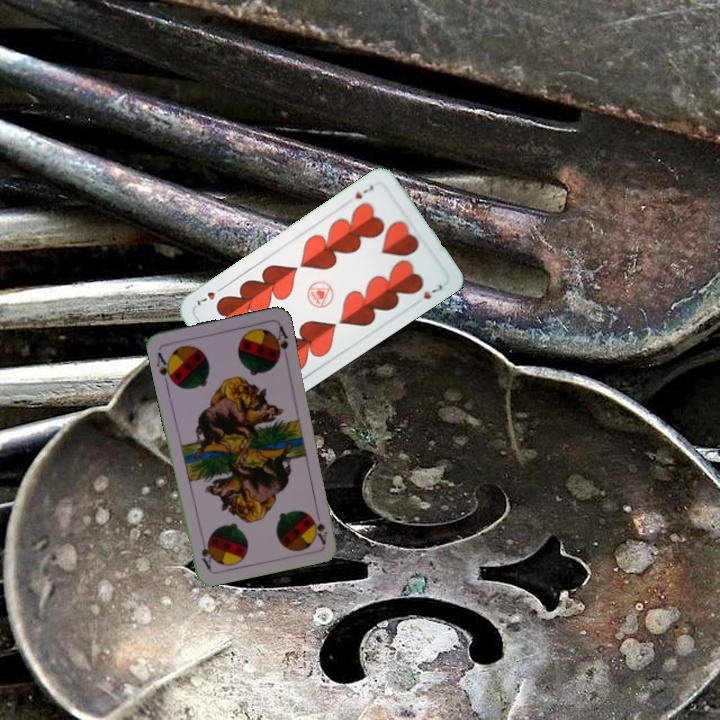H7: (351, 180, 376, 202)
SA: (152, 348, 177, 387), (309, 513, 330, 546)
